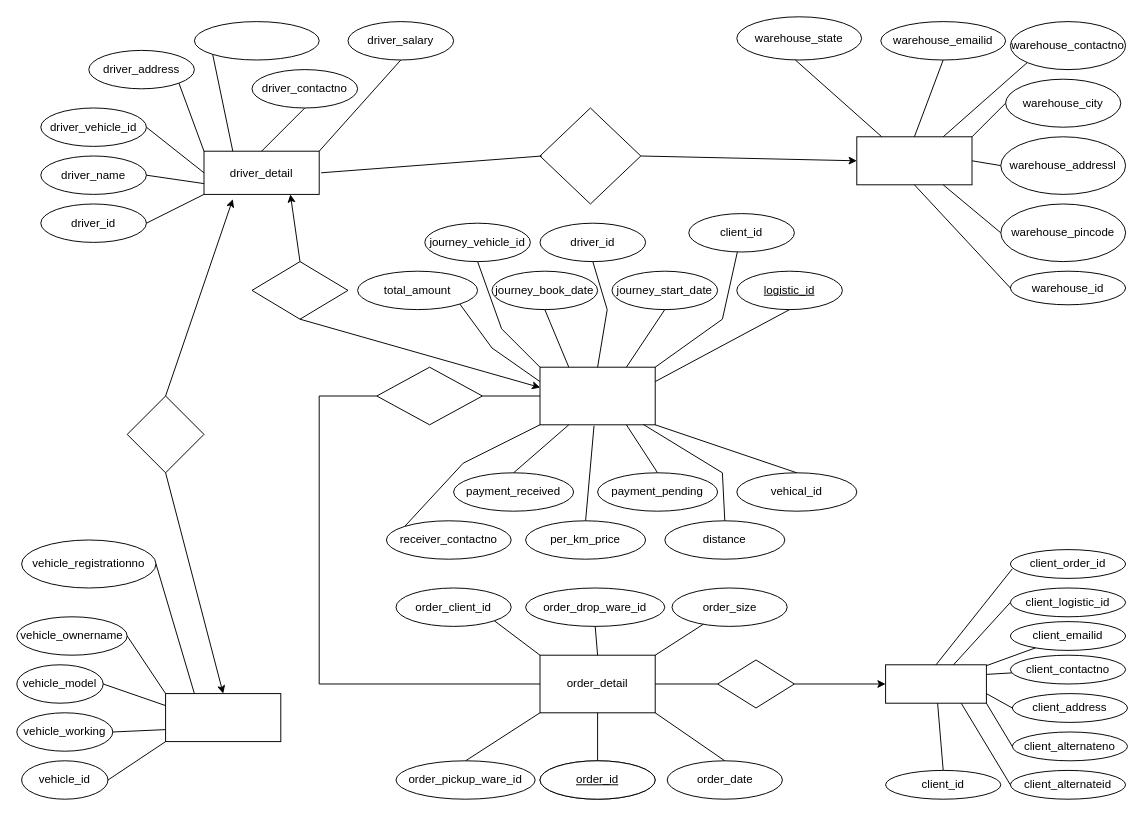
This 1144x816 diagram has some shape labels left out. Here are the shapes that lost their labels. From the top down, the centre of each, then its label:
At point (256, 40): "driver_experience".
At point (590, 155): "DELIVERS TO".
At point (914, 160): "warehouse_detail".
At point (299, 290): "COMMANDS".
At point (429, 395): "STORED".
At point (597, 395): "logistic_deail".
At point (165, 434): "DRIVES".
At point (755, 683): "ORDERS".
At point (935, 683): "client_detail".
At point (223, 717): "vehicle_detail".
